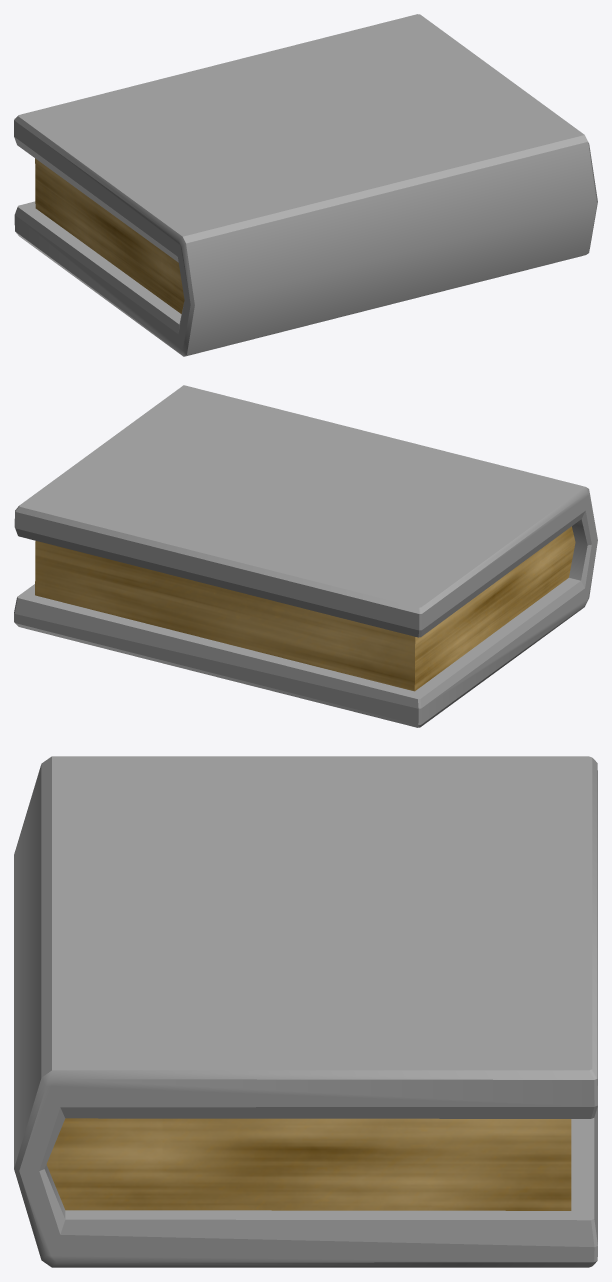
Rendered from DummyBook2.fbx.
3 renders of one model, top to bottom at view 1: azimuth 30°, elevation 25°; view 2: azimuth 150°, elevation 25°; view 3: azimuth 270°, elevation 25°, orthographic. The views are drawn at different scales.
Parts seen in each view (by area): view 1: Book:pCube4; view 2: Book:pCube4; view 3: Book:pCube4.
Part boxes in pixels (x1=…): Book:pCube4: x1=14, y1=14, x2=597, y2=356; Book:pCube4: x1=14, y1=385, x2=597, y2=727; Book:pCube4: x1=14, y1=756, x2=597, y2=1267.
Size of the model in its own units: 52.18 by 15.15 by 39.64.
